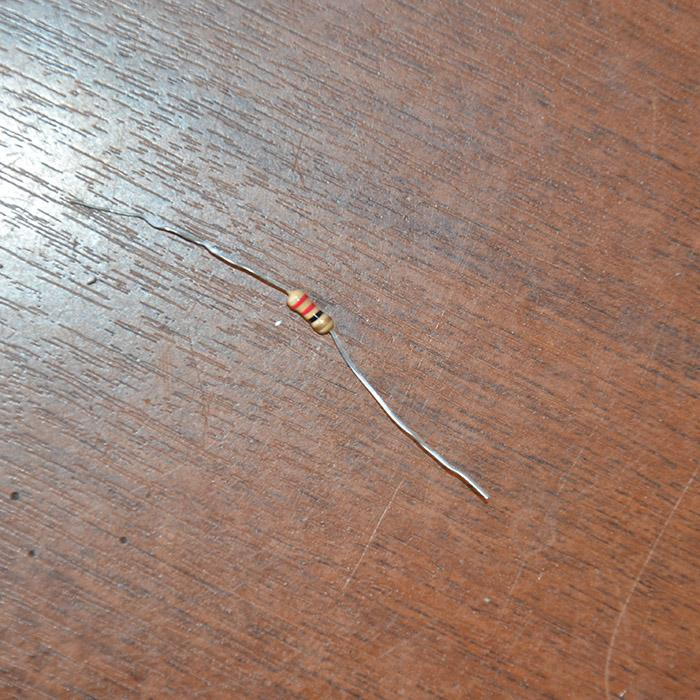resistor: (286, 289, 334, 335)
